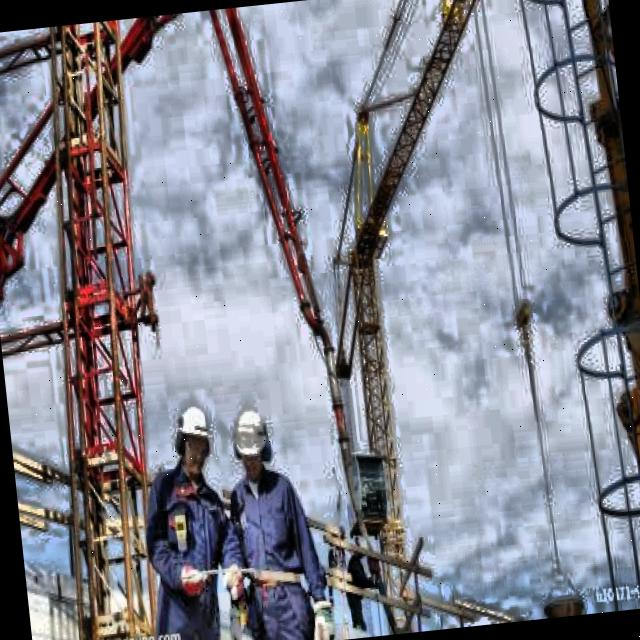helmet: (227, 396, 274, 486), (170, 398, 218, 479)
